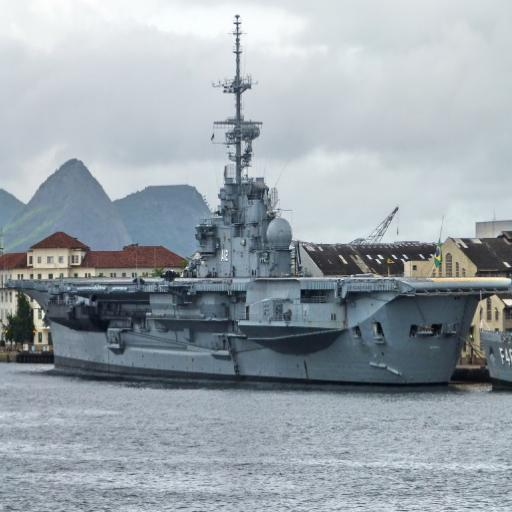Portanaves: (4, 21, 512, 396)
